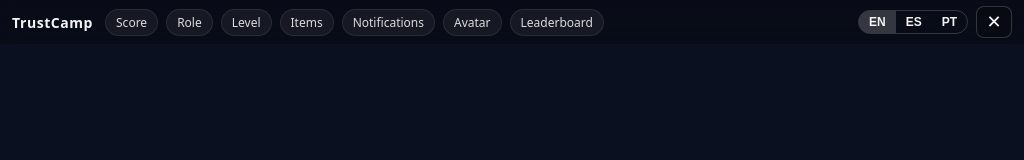
Hud › switches the active language when a language button is clicked
Note: Click the in-chrome ES language button (aria-label is the Spanish name).
Click the button with test id "hud-lang-es" at x=914, y=22, box [896, 11, 932, 33]
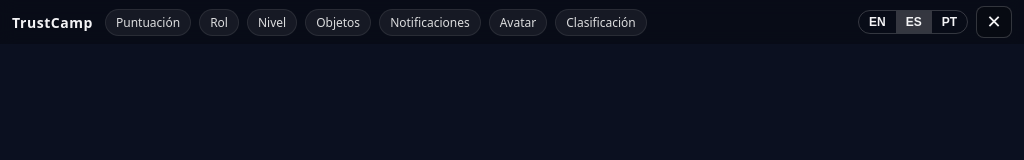
Now the text "Puntuación" is shown, box [116, 14, 180, 30]
Note: Switch to pt.
Click the button with test id "hud-lang-pt" at x=949, y=22, box [932, 11, 967, 33]
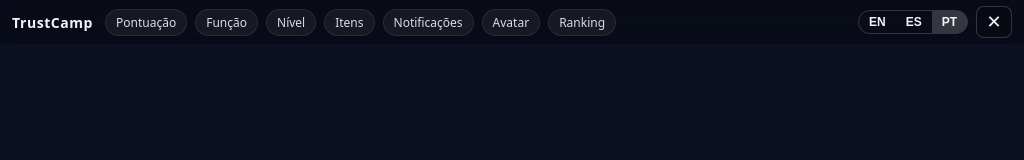
Now the text "Pontuação" is shown, box [116, 14, 176, 30]
